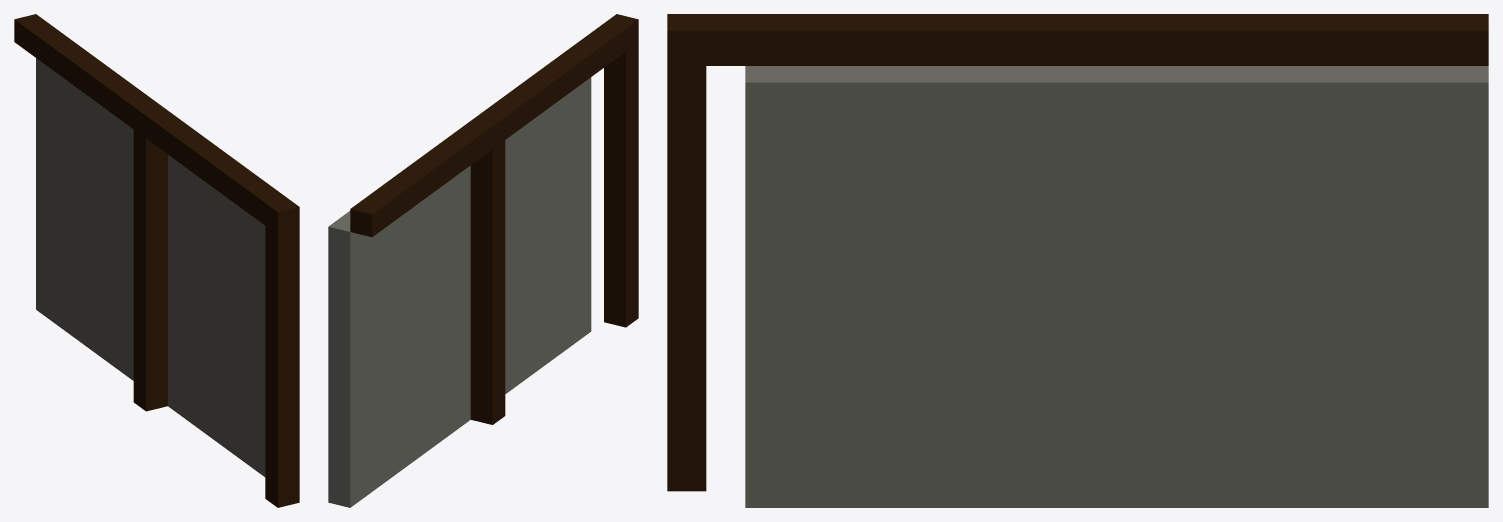
Rendered from HouseWall2.glb.
3 views of the same model, side by side, from view 1: azimuth 30°, elevation 25°; view 2: azimuth 150°, elevation 25°; view 3: azimuth 270°, elevation 25° (orthographic). The views are drawn at different scales.
Parts seen in each view (by area): view 1: HouseWall2; view 2: HouseWall2; view 3: HouseWall2.
Part boxes in pixels (x1,y1,x2,y2): HouseWall2: (14,14,299,507); HouseWall2: (328,14,638,507); HouseWall2: (667,14,1488,507).
Size of the model in its own units: 0.4 by 2.6 by 4.2.
